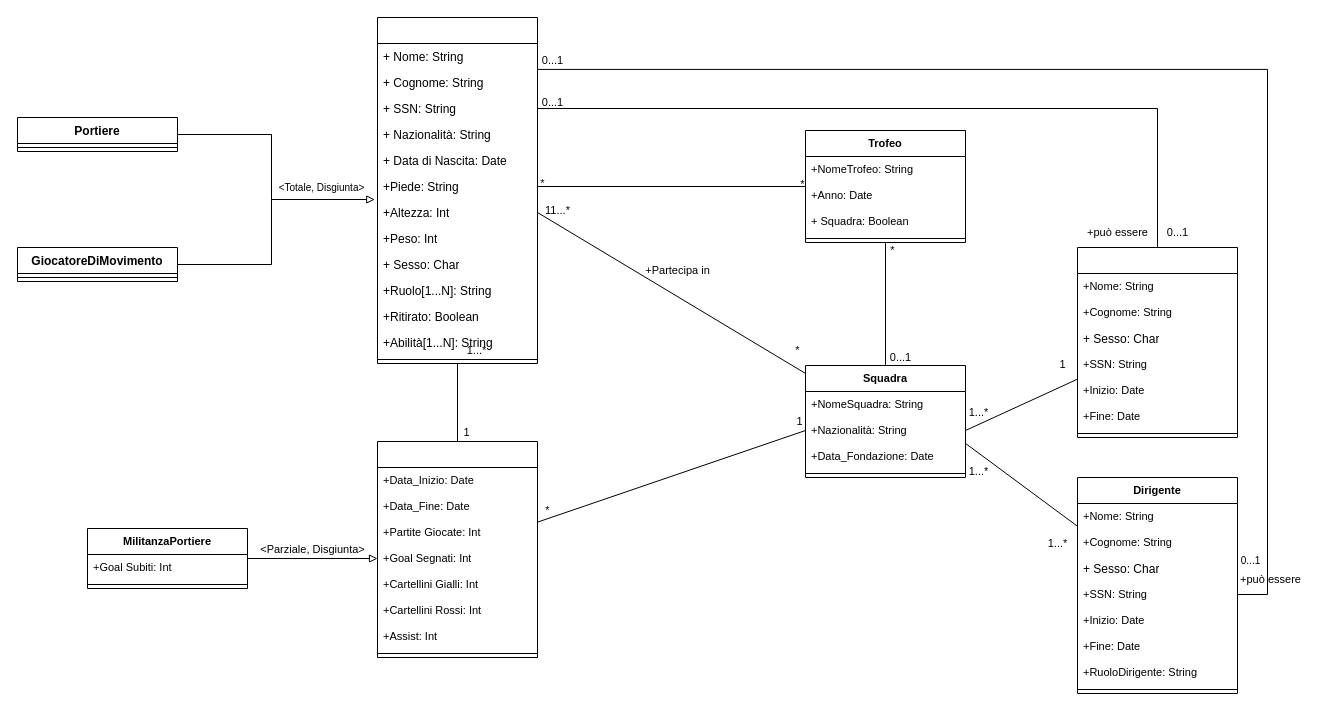
Image size: 1328x711. Some labels were removed from this diagram. Each missing label, with the box of its shape:
Allenatore: (1076, 246, 1238, 438)
Giocatore: (376, 16, 538, 364)
Militanza: (376, 440, 538, 658)
